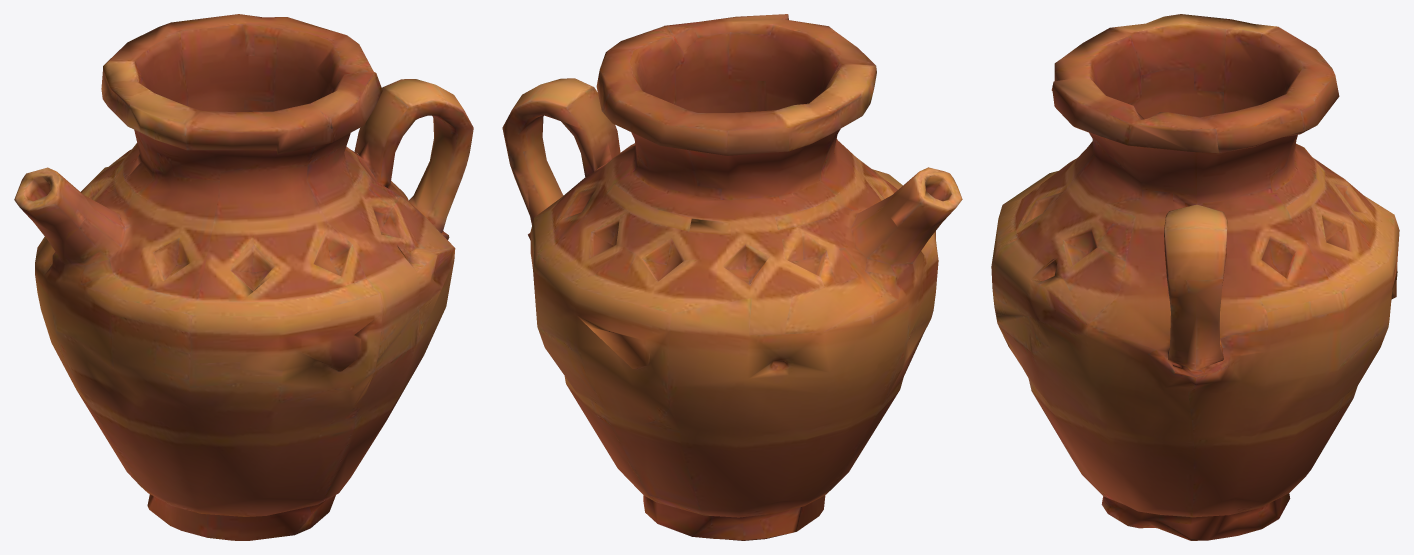
File: jarro_barro_lod1.glb
3 renders of one model, left to right at view 1: azimuth 30°, elevation 25°; view 2: azimuth 150°, elevation 25°; view 3: azimuth 270°, elevation 25°, orthographic.
Parts seen in each view (by area): view 1: tripo_node_a5470a2a-1616-4d51-872d-dd6edf8114b3; view 2: tripo_node_a5470a2a-1616-4d51-872d-dd6edf8114b3; view 3: tripo_node_a5470a2a-1616-4d51-872d-dd6edf8114b3.
Part boxes in pixels (x1=…): tripo_node_a5470a2a-1616-4d51-872d-dd6edf8114b3: x1=14, y1=14, x2=473, y2=540; tripo_node_a5470a2a-1616-4d51-872d-dd6edf8114b3: x1=502, y1=14, x2=962, y2=540; tripo_node_a5470a2a-1616-4d51-872d-dd6edf8114b3: x1=991, y1=14, x2=1399, y2=540.
Size of the model in its own units: 0.9764 by 0.9132 by 0.7792.
1 material, 1 textured.
